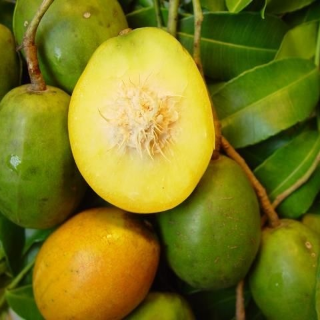coc: (68, 26, 215, 214)
